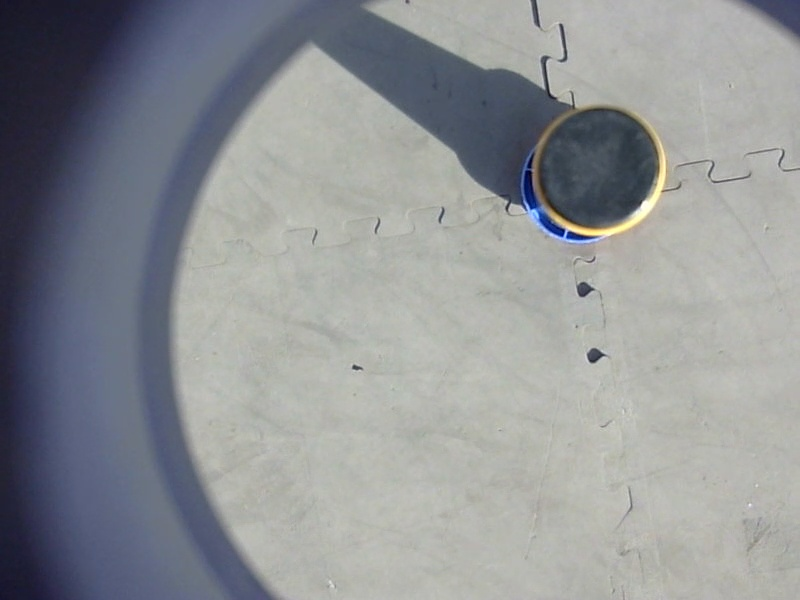tip: (525, 99, 673, 246)
